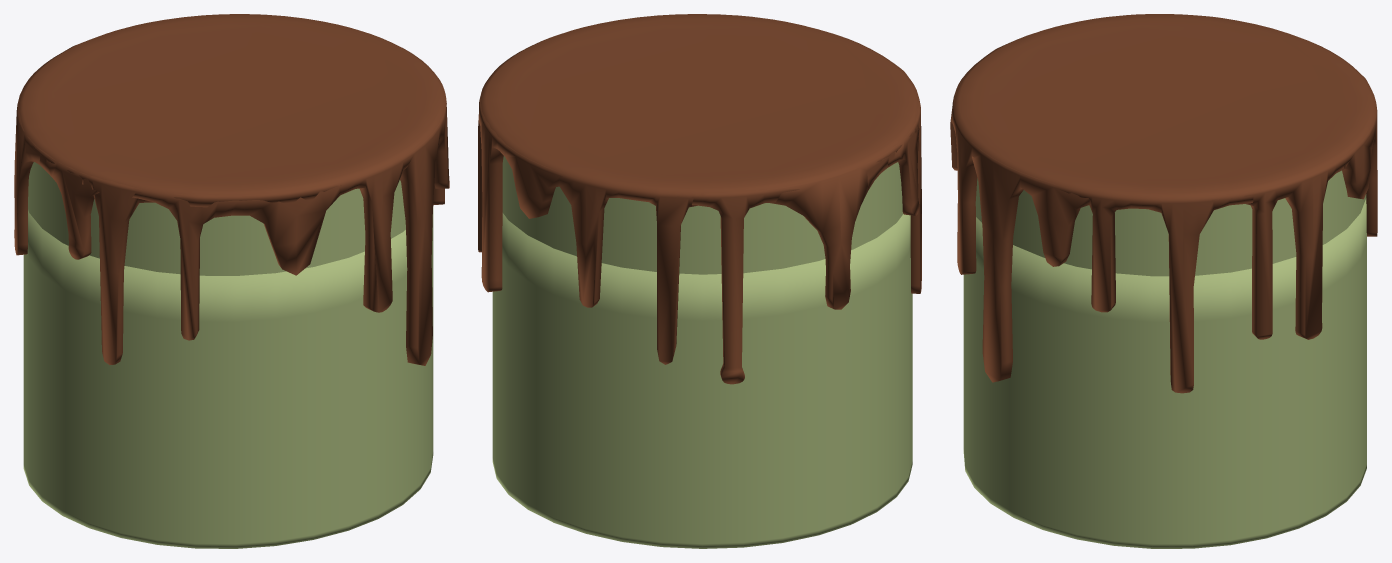
The model's file is 1-tier-pistage-ganache-none.glb.
The picture shows the model from 3 angles, left to right: view 1: azimuth 30°, elevation 25°; view 2: azimuth 150°, elevation 25°; view 3: azimuth 270°, elevation 25°; orthographic projection.
Parts seen in each view (by area): view 1: Cylinder.019, tHE ICING; view 2: Cylinder.019, tHE ICING; view 3: Cylinder.019, tHE ICING.
Part boxes in pixels (x1,y1,x2,y2): Cylinder.019: (23,162,433,548); tHE ICING: (14,14,449,365); Cylinder.019: (492,156,912,548); tHE ICING: (478,14,921,384); Cylinder.019: (963,170,1366,548); tHE ICING: (950,14,1377,393).
Bounding box in the file's own units: 2.8 × 2.52 × 2.71.
